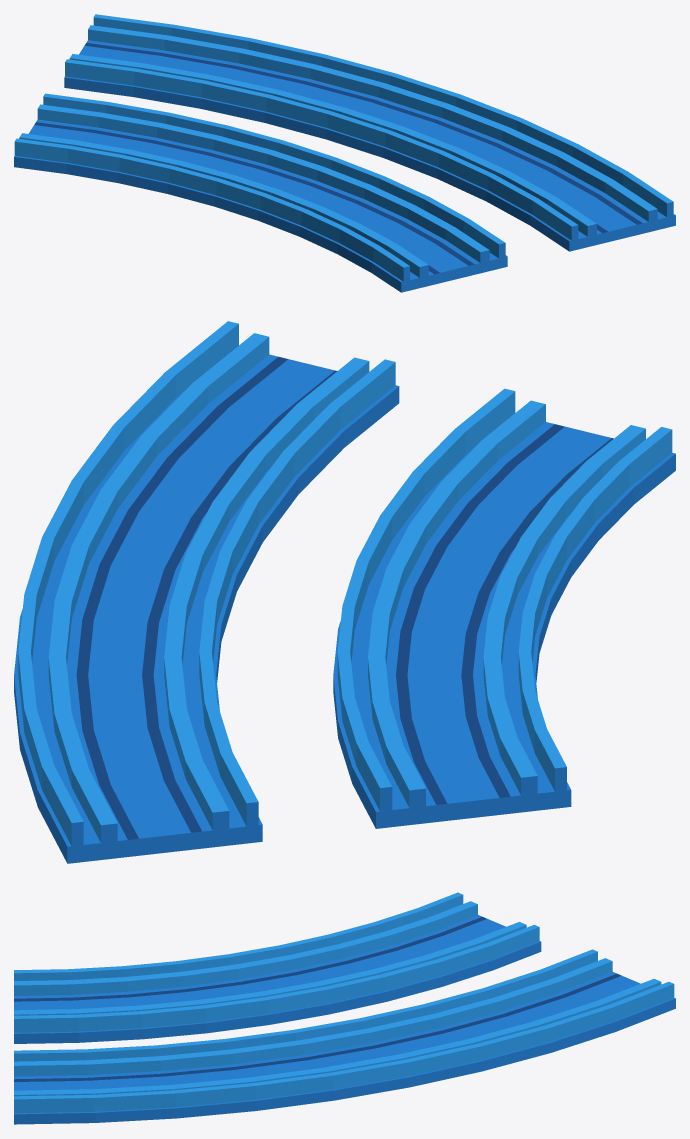
The model's file is Track_Double_Curve_Left.fbx.
3 views of the same model, one above another, from view 1: azimuth 30°, elevation 25°; view 2: azimuth 150°, elevation 25°; view 3: azimuth 270°, elevation 25° (orthographic). The views are drawn at different scales.
Parts seen in each view (by area): view 1: Bed, Bed.001; view 2: Bed, Bed.001; view 3: Bed, Bed.001.
Boxes of the visible parts, box(x1,y1,x2,y2) form: Bed: box(64, 14, 675, 251); Bed.001: box(14, 93, 507, 292); Bed: box(14, 321, 399, 863); Bed.001: box(333, 388, 675, 828); Bed: box(14, 949, 675, 1124); Bed.001: box(14, 892, 541, 1043).
Size of the model in its own units: 433 by 23.21 by 579.
